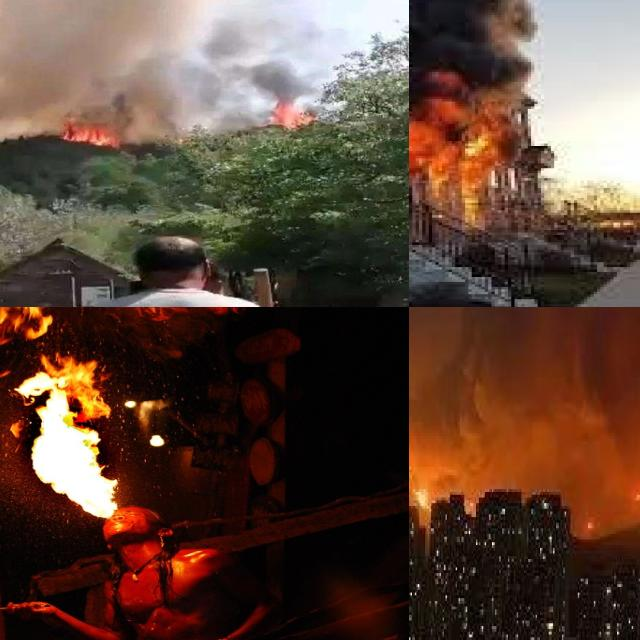fire: (0, 307, 271, 426), (409, 67, 544, 225), (409, 416, 435, 514), (59, 121, 134, 154), (254, 96, 322, 131)
smoke: (409, 307, 640, 506), (0, 0, 205, 119), (219, 21, 330, 92)
